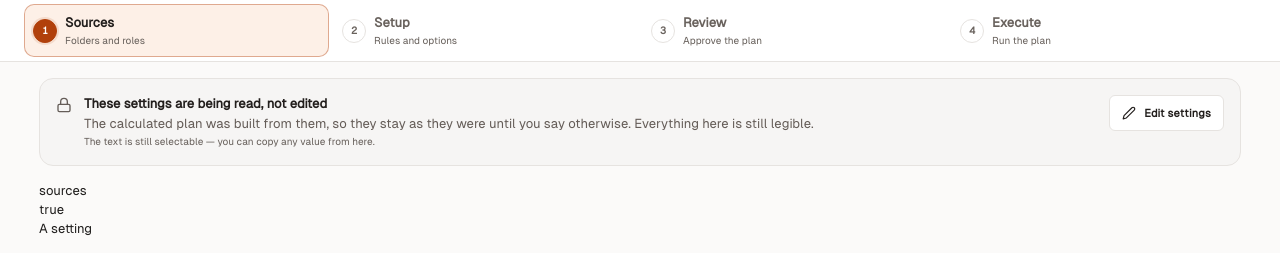
Test: walking back through locked stages › raises no dialog and keeps the plan
What coordinates should you click on to do the following:
click the button "3 Review Approve the plan"
I would click on:
 (705, 22)
Its box is x1=642 y1=4 x2=947 y2=57.
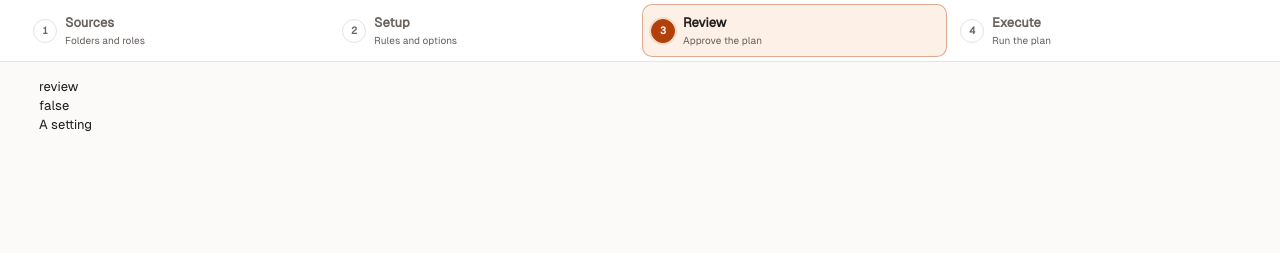
Now the text with test id "stage" reads "review", box x1=39 y1=79 x2=78 y2=94
What coordinates should you click on to do the following:
click the button "2 Setup Rules and options"
I would click on:
 (392, 22)
Its box is x1=333 y1=4 x2=638 y2=57.
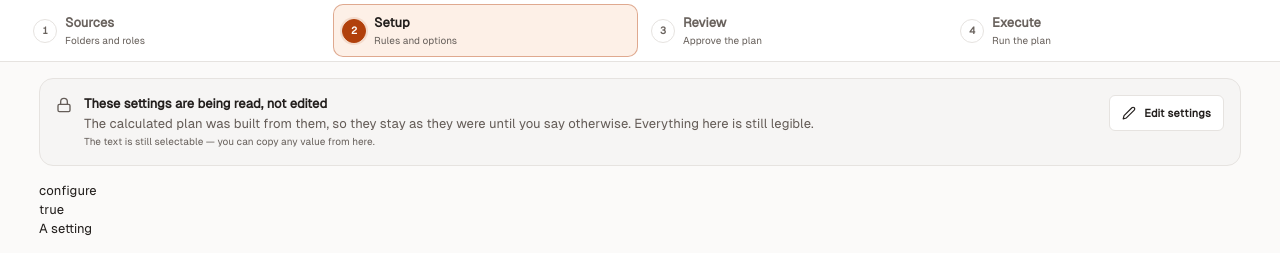
Now the text with test id "stage" reads "configure", box x1=39 y1=183 x2=97 y2=198
What coordinates should you click on to do the following:
click the button "1 Sources Folders and roles"
I would click on:
 (90, 22)
Its box is x1=24 y1=4 x2=329 y2=57.
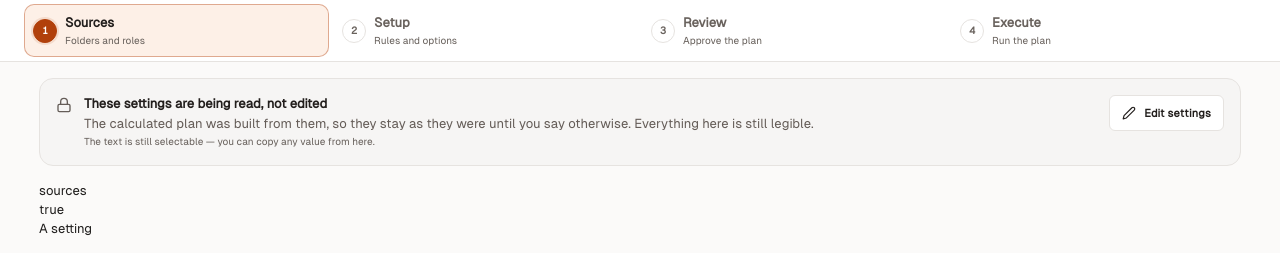
Now the text with test id "stage" reads "sources", box x1=39 y1=183 x2=87 y2=198
